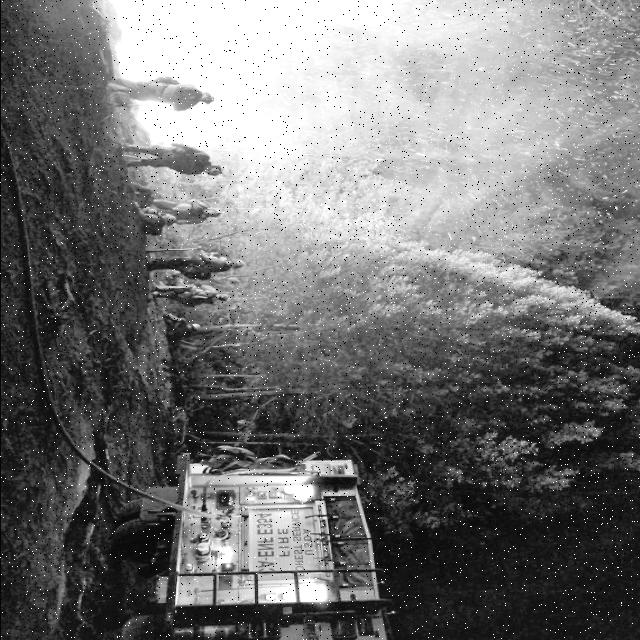asap: (105, 1, 414, 150)
